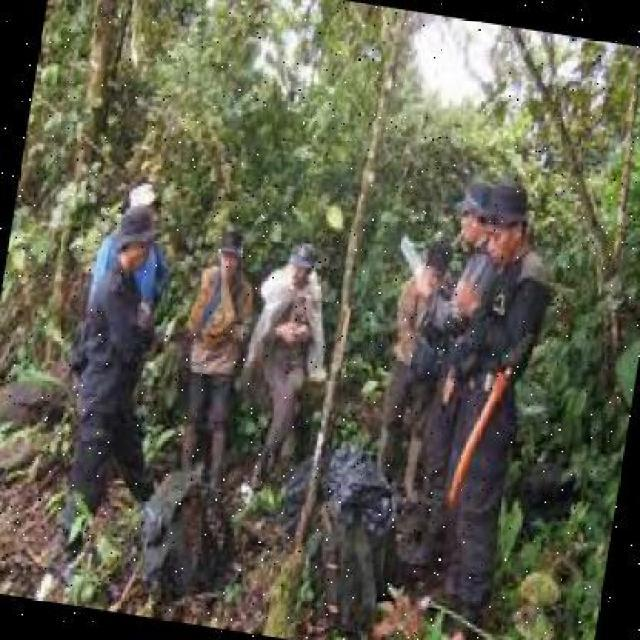poacher: (52, 206, 172, 519), (476, 184, 570, 576), (364, 230, 458, 462), (164, 230, 250, 464), (257, 232, 331, 460)
